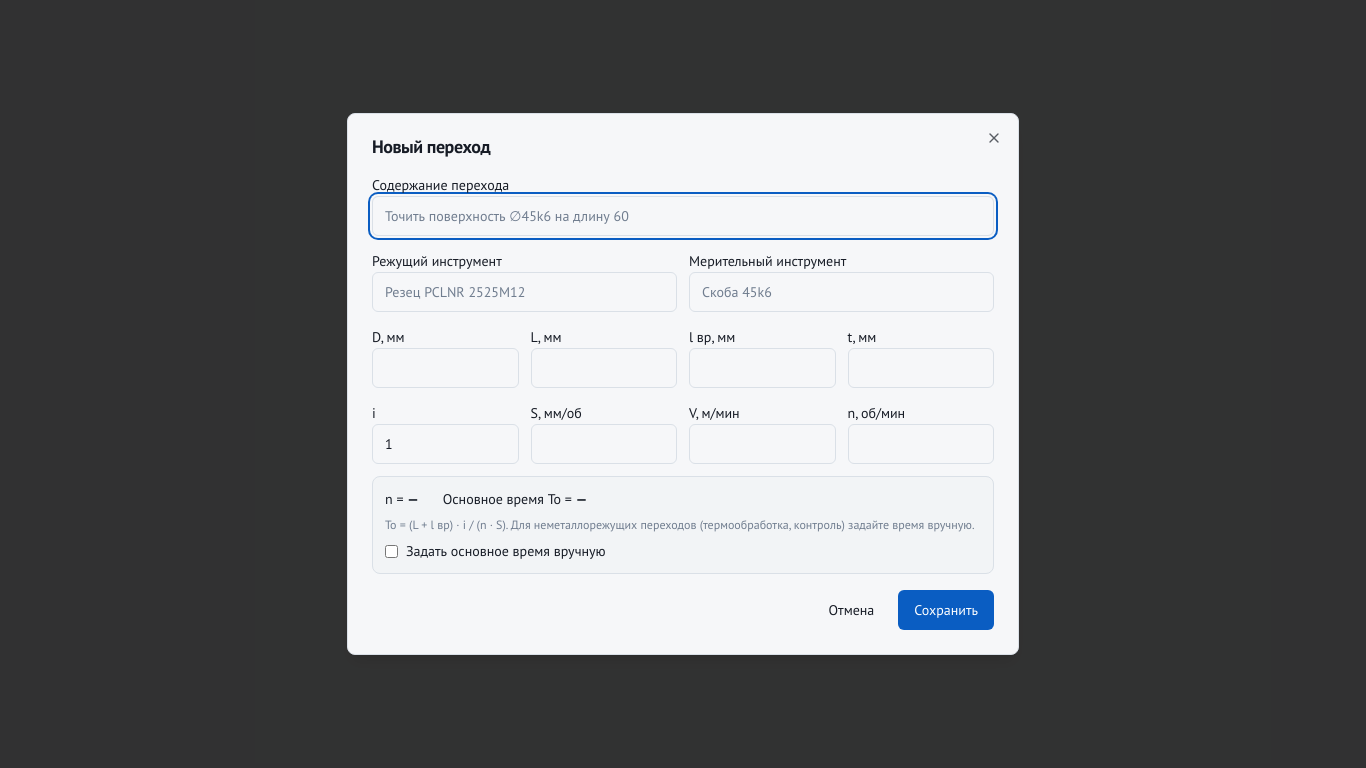
Test case: Форма перехода › не сохраняет переход без содержания
What coordinates should you click on to do the following:
click the button "Сохранить"
I would click on:
 (946, 610)
Its box is top-left (898, 590), bottom-right (994, 630).
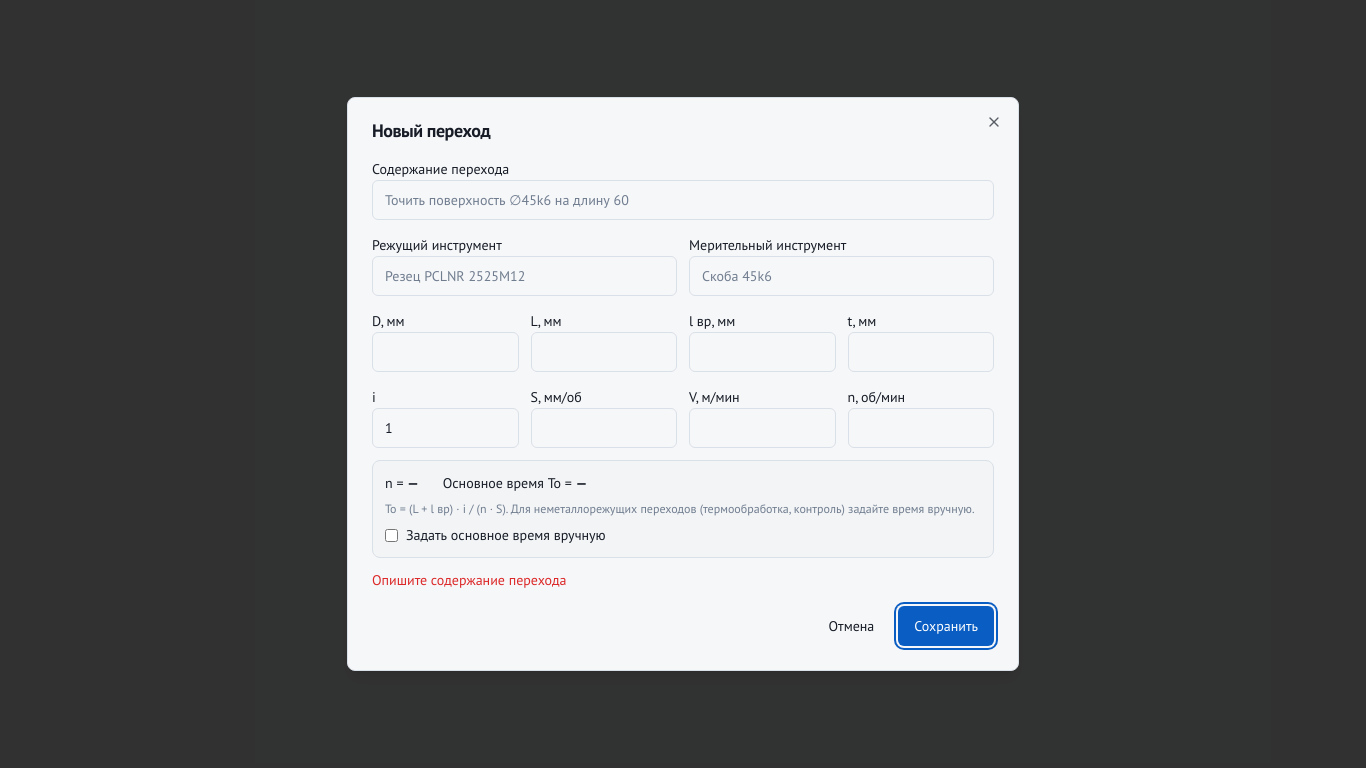
Expected: the text "Опишите содержание перехода" is shown, top-left (372, 571), bottom-right (566, 589)
